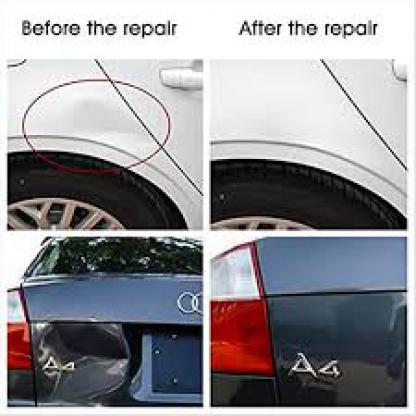dent: (30, 321, 130, 402)
